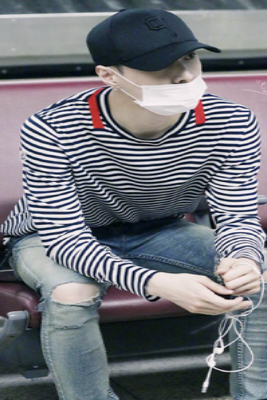mask_weared_incorrect: (123, 52, 202, 115)
